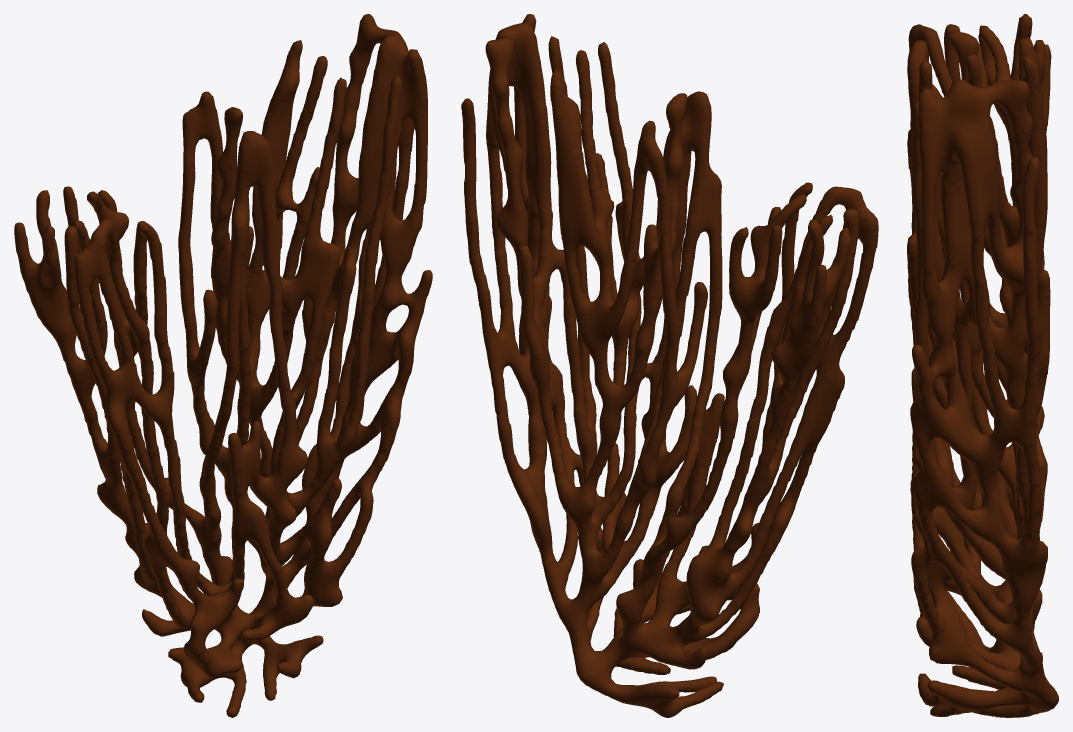
The model's file is coral Ivory Bush.fbx.
3 renders of one model, left to right at view 1: azimuth 30°, elevation 25°; view 2: azimuth 150°, elevation 25°; view 3: azimuth 270°, elevation 25°, orthographic. The views are drawn at different scales.
Parts seen in each view (by area): view 1: tyMesher001; view 2: tyMesher001; view 3: tyMesher001.
Boxes of the visible parts, x1,y1,x2,y2 form: tyMesher001: [14, 14, 432, 717]; tyMesher001: [461, 14, 878, 717]; tyMesher001: [907, 14, 1058, 717].
Bounding box in the file's own units: 174 × 285 × 54.75.
